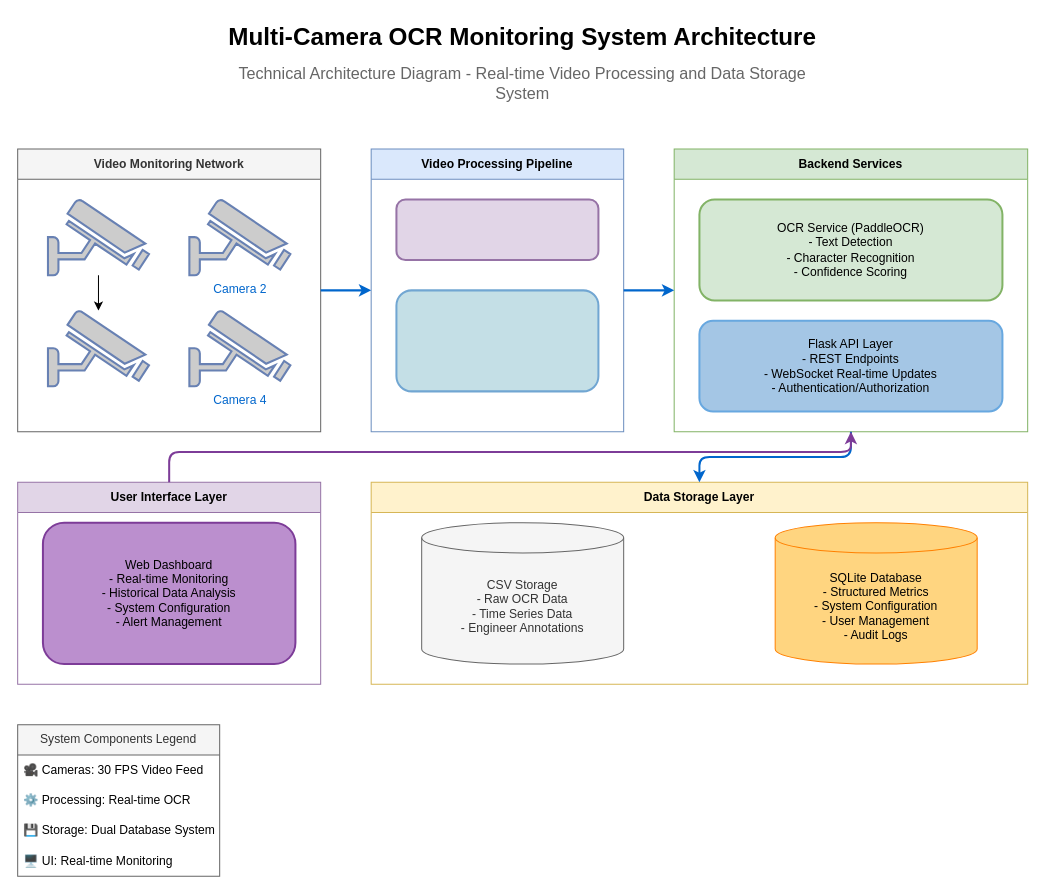
This 1045x894 diagram has some shape labels left out. Here are the shapes that lost their labels. From the top down, the centre of each, then its label:
At [97,237]: "Camera 1".
At [497,229]: "Multi-Stream Frame Capture (30 FPS per camera)".
At [97,348]: "Camera 3".
At [497,340]: "Image Preprocessing - Crop ROI - Threshold Adjustment - Noise Reduction".
